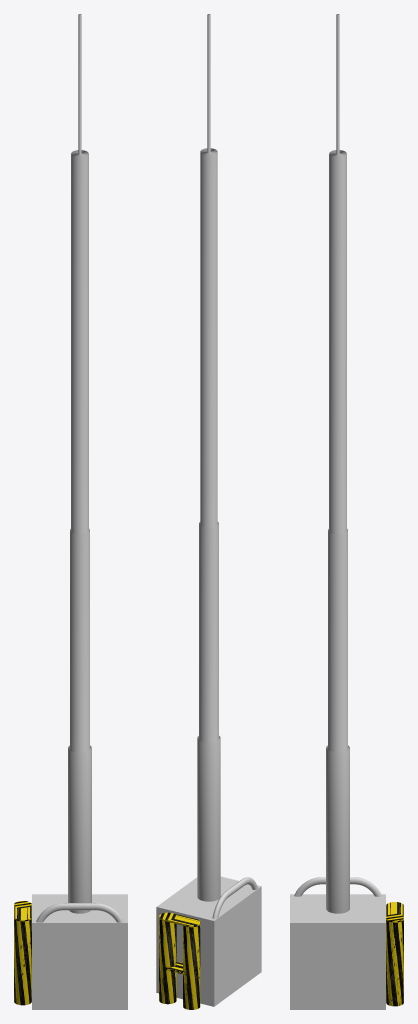
Rendered from LPole.fbx.
3 views of the same model, side by side, from view 1: azimuth 90°, elevation 25°; view 2: azimuth 150°, elevation 25°; view 3: azimuth 270°, elevation 25° (orthographic).
Parts seen in each view (by area): view 1: Cylinder, Cube, Cylinder.004, Cube.002; view 2: Cylinder, Cube, Cylinder.004, Cube.002; view 3: Cylinder, Cube, Cylinder.004, Cube.002.
Boxes of the visible parts, left/top/right/bottom form: Cylinder: left=68, top=14, right=91, bottom=913; Cube: left=32, top=894, right=127, bottom=1009; Cylinder.004: left=14, top=901, right=31, bottom=1005; Cube.002: left=36, top=903, right=123, bottom=922; Cylinder: left=197, top=14, right=220, bottom=901; Cube: left=156, top=876, right=261, bottom=1006; Cylinder.004: left=159, top=912, right=200, bottom=1009; Cube.002: left=212, top=877, right=257, bottom=918; Cylinder: left=326, top=14, right=349, bottom=913; Cube: left=290, top=894, right=385, bottom=1009; Cylinder.004: left=386, top=902, right=403, bottom=1006; Cube.002: left=294, top=877, right=381, bottom=896.
Size of the model in its own units: 141 by 2256 by 237.
Materials: 4 (2 with a texture image).
